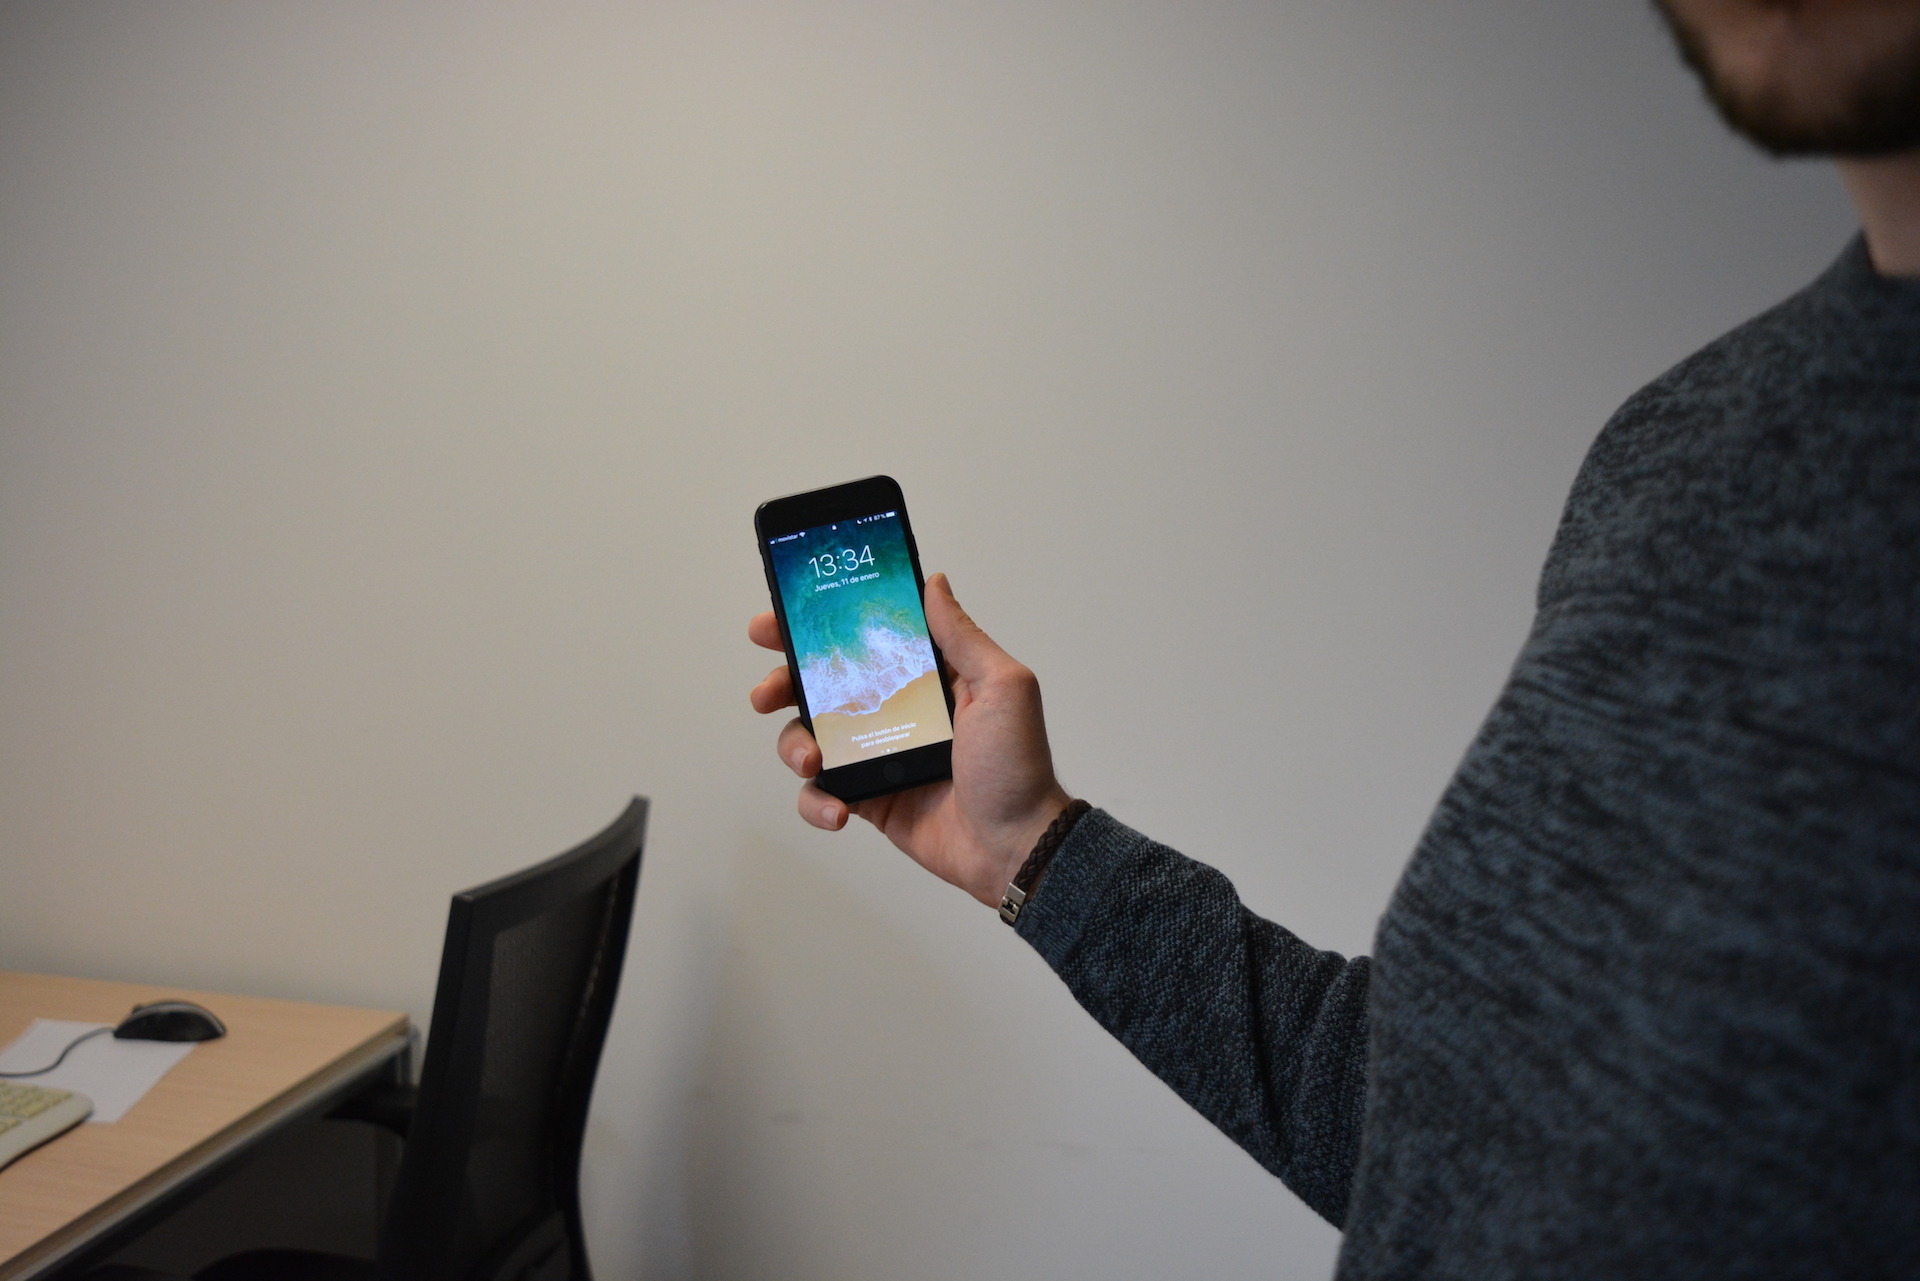smartphone: (753, 473, 958, 808)
